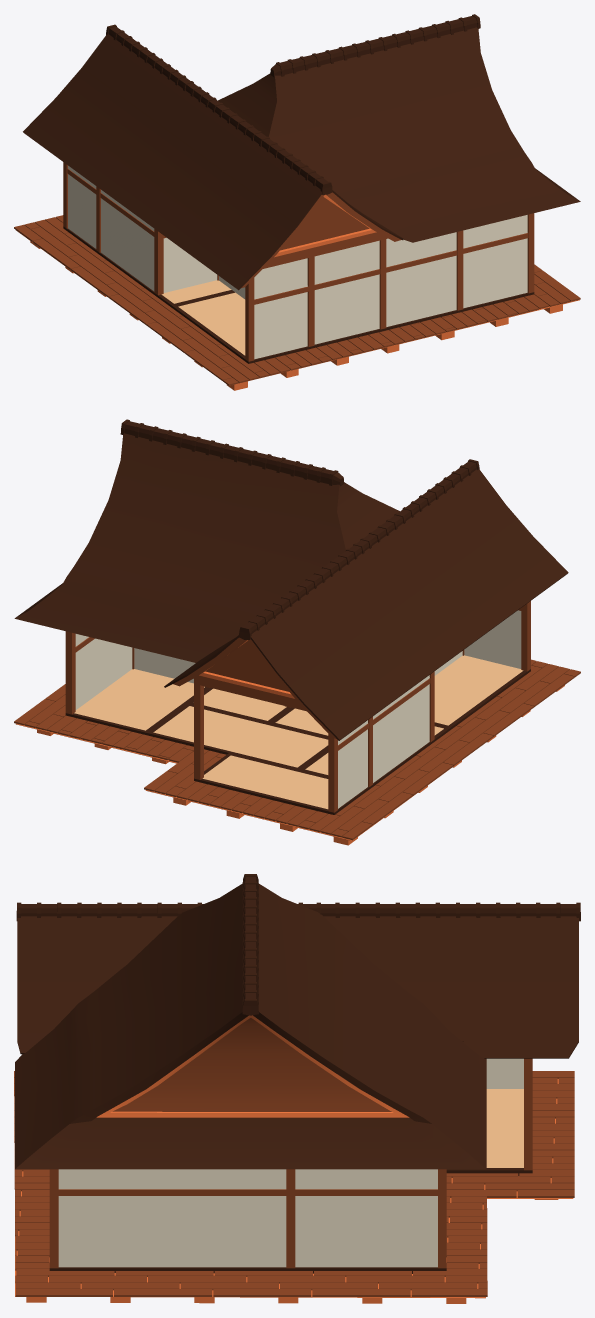
Rendered from JapansHuis.fbx.
The picture shows the model from 3 angles, top to bottom: view 1: azimuth 30°, elevation 25°; view 2: azimuth 150°, elevation 25°; view 3: azimuth 270°, elevation 25°; orthographic projection. The views are drawn at different scales.
Visible parts, largest first — view 1: Cube.005; view 2: Cube.005; view 3: Cube.005.
Part boxes in pixels (box(x1,y1,x2,y2)): Cube.005: box(14, 14, 580, 390); Cube.005: box(14, 419, 580, 845); Cube.005: box(14, 874, 580, 1303).
Size of the model in its own units: 1104 by 697 by 1179.
